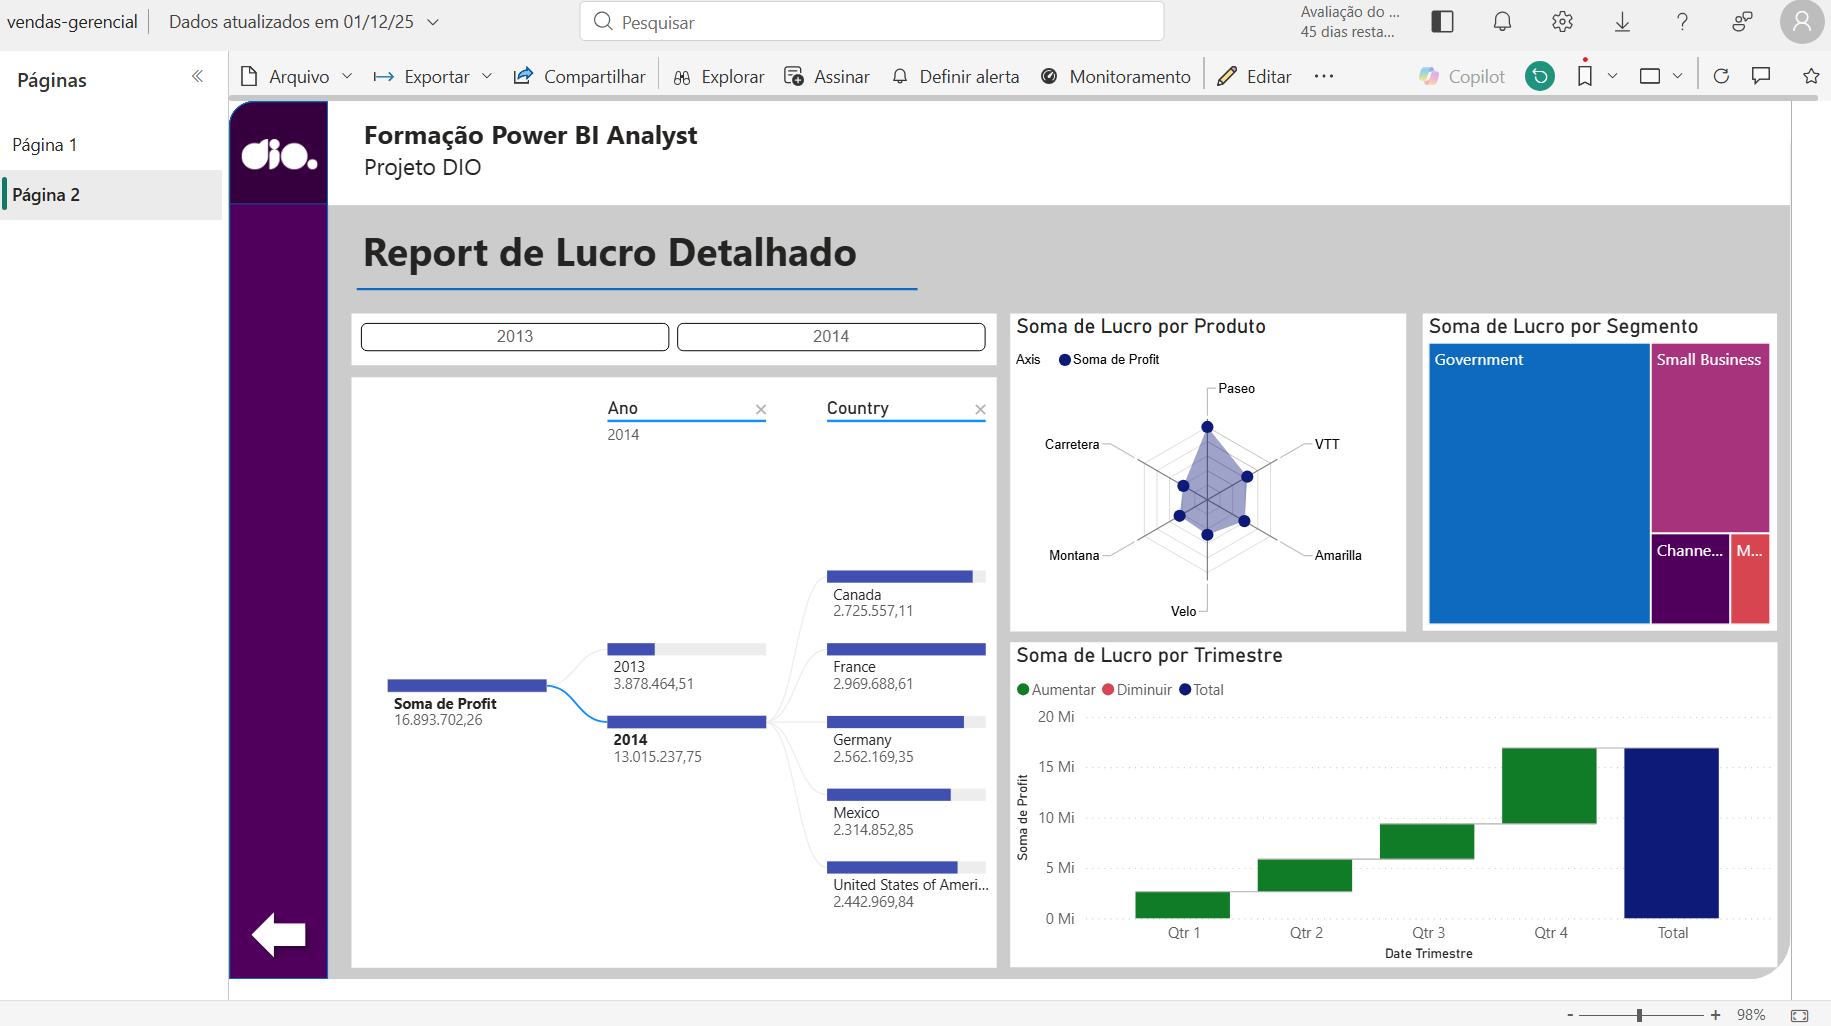

Layout of this report page (visuals, bound fields, positions):
{"tool":"powerbi","page":{"name":"Página 2","canvas":[1280,720],"ordinal":1},"visuals":[{"type":"shape","title":"Fundo cinza","box":[0,0.8,1280,719.2],"z":0},{"type":"shape","box":[105,134,460,40],"z":0,"group":"g1"},{"type":"shape","title":"Coluna Canto","box":[0,0,81.2,719.8],"z":1000},{"type":"textbox","box":[105,96,430,52.5],"z":1000,"group":"g1"},{"type":"shape","title":"Logo DIO Forma","box":[0,0,81.2,85],"z":2000},{"type":"image","title":"logo_dio","box":[10,0,62.8,87],"z":3000},{"type":"shape","title":"Caixa Apresentação","box":[81.3,0,1198.7,85.6],"z":4000},{"type":"textbox","title":"Apresentação DIO","box":[105.7,7.2,650.8,72],"z":5000},{"type":"group","id":"g1","title":"Apresentação","box":[105,96,460,78],"z":6000},{"type":"shape","title":"Seta","box":[9.6,655.6,62.4,55.2],"z":7000},{"type":"treemap","title":"Soma de Lucro por Segmento","fields":{"Values":["Sum(financials.Profit)"],"Group":["financials.Segment"]},"box":[978.8,173.8,290,260],"z":8000},{"type":"RadarChart1446119667547","title":"Soma de Lucro por Produto","fields":{"Y":["Sum(financials.Profit)"],"Category":["financials.Product"]},"box":[640,173.8,323.8,260],"z":9000},{"type":"decompositionTreeVisual","fields":{"Analyze":["Sum(financials.Profit)"],"ExplainBy":["financials.Date.Variation.Hierarquia de datas.Ano","financials.Country"]},"box":[100,226.2,528.8,483.8],"z":10000},{"type":"waterfallChart","title":"Soma de Lucro por Trimestre","fields":{"Category":["financials.Date.Variation.Hierarquia de datas.Trimestre"],"Y":["Sum(financials.Profit)"]},"box":[640,443.8,628.8,266.2],"z":11000},{"type":"ChicletSlicer1448559807354","fields":{"Category":["financials.Date.Variation.Hierarquia de datas.Ano"]},"box":[100,173.8,528.8,42.5],"z":12000}]}

Visuals, with their boxes on the page's 1280x720 design canvas (x1, y1, x2, y2). These are canvas units, not pixel positions in the 1831x1026 screenshot, which may show the page scaled, cropped or inside an application window:
"Fundo cinza" shape: <bbox>0, 1, 1280, 720</bbox>
shape: <bbox>105, 134, 565, 174</bbox>
"Coluna Canto" shape: <bbox>0, 0, 81, 720</bbox>
textbox: <bbox>105, 96, 535, 148</bbox>
"Logo DIO Forma" shape: <bbox>0, 0, 81, 85</bbox>
"logo_dio" image: <bbox>10, 0, 73, 87</bbox>
"Caixa Apresentação" shape: <bbox>81, 0, 1280, 86</bbox>
"Apresentação DIO" textbox: <bbox>106, 7, 756, 79</bbox>
"Apresentação" group: <bbox>105, 96, 565, 174</bbox>
"Seta" shape: <bbox>10, 656, 72, 711</bbox>
"Soma de Lucro por Segmento" treemap: <bbox>979, 174, 1269, 434</bbox>
"Soma de Lucro por Produto" RadarChart1446119667547: <bbox>640, 174, 964, 434</bbox>
decompositionTreeVisual - Sum(financials.Profit) x financials.Date.Variation.Hierarquia de datas.Ano: <bbox>100, 226, 629, 710</bbox>
"Soma de Lucro por Trimestre" waterfallChart: <bbox>640, 444, 1269, 710</bbox>
ChicletSlicer1448559807354 - financials.Date.Variation.Hierarquia de datas.Ano: <bbox>100, 174, 629, 216</bbox>
